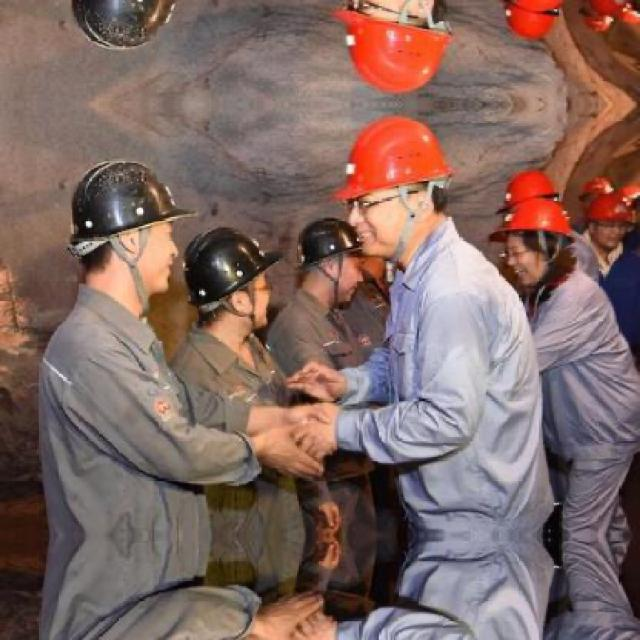con casco: (292, 120, 482, 279), (49, 162, 228, 284), (187, 224, 313, 330), (503, 197, 597, 273), (297, 208, 382, 291)
